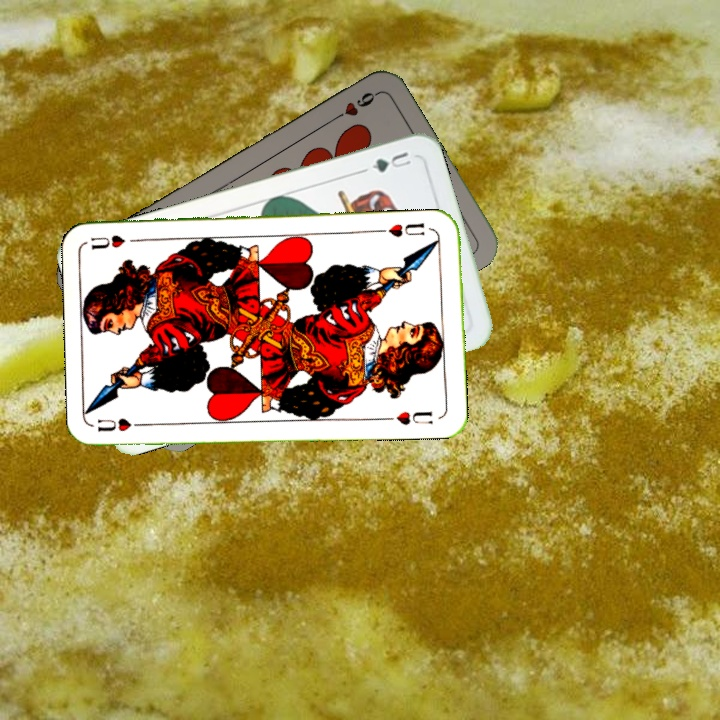GU: (368, 147, 414, 175)
H9: (327, 88, 381, 125)
HU: (93, 414, 151, 434), (385, 219, 427, 240)
